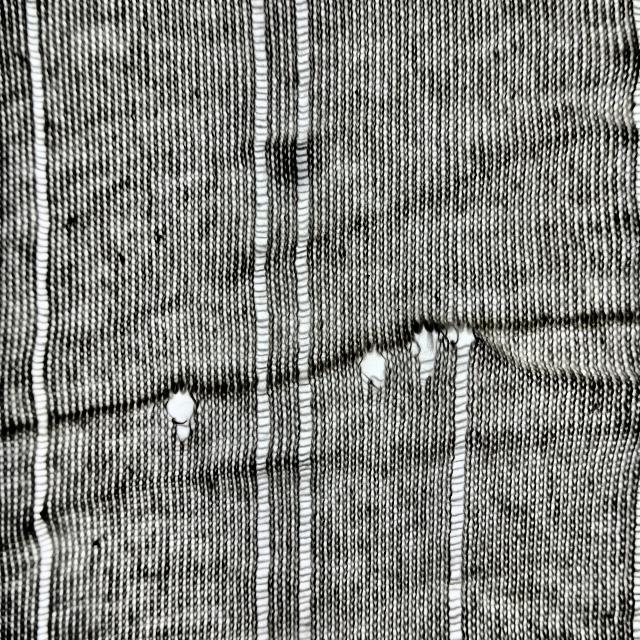Hole: (271, 129, 329, 193), (160, 383, 206, 448), (406, 322, 444, 388), (354, 346, 390, 390)
Stitch: (20, 0, 56, 638), (242, 0, 274, 638), (290, 0, 321, 639), (449, 320, 476, 640)
